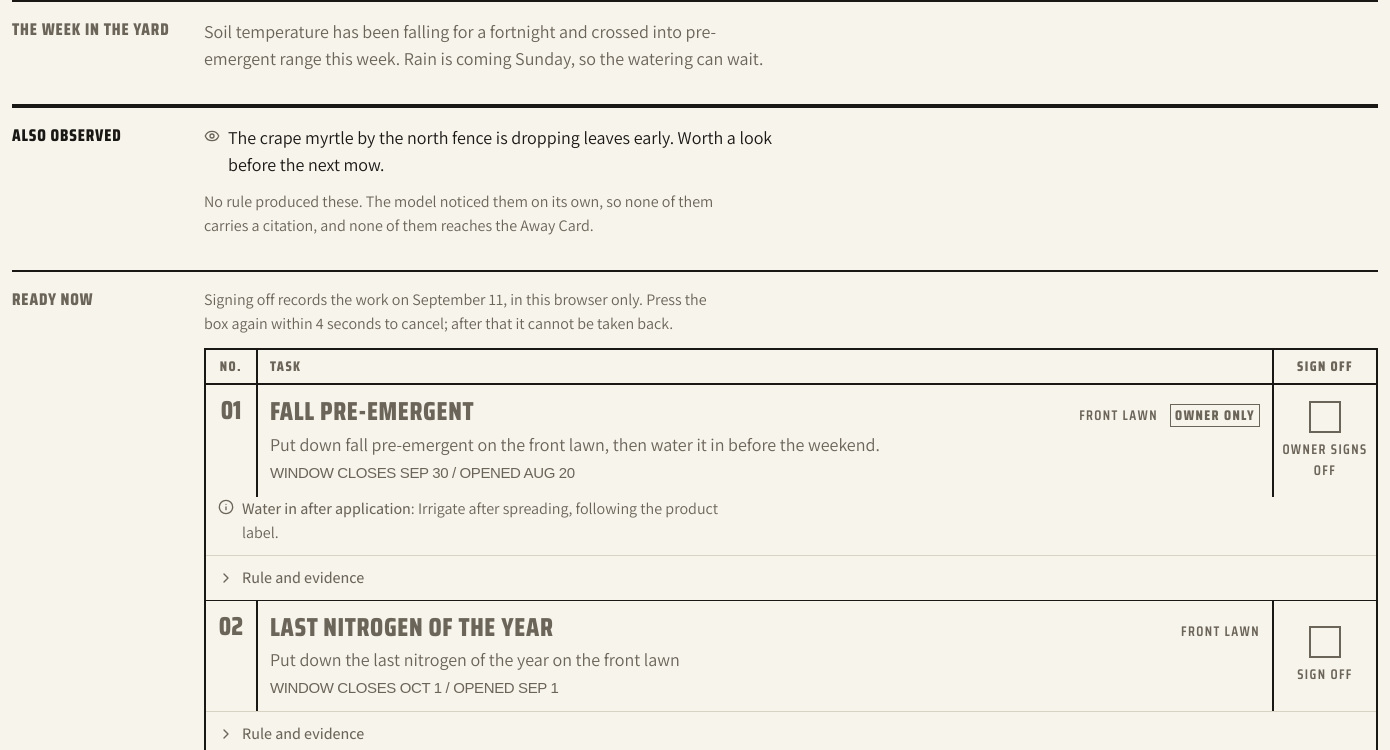
Test: thisWeek › prints the day a signed-off Task was recorded under its evidence
This screenshot has width=1390, height=750.
Click the 1st checkbox. click: click(1325, 441)
box: [1274,385,1376,496]
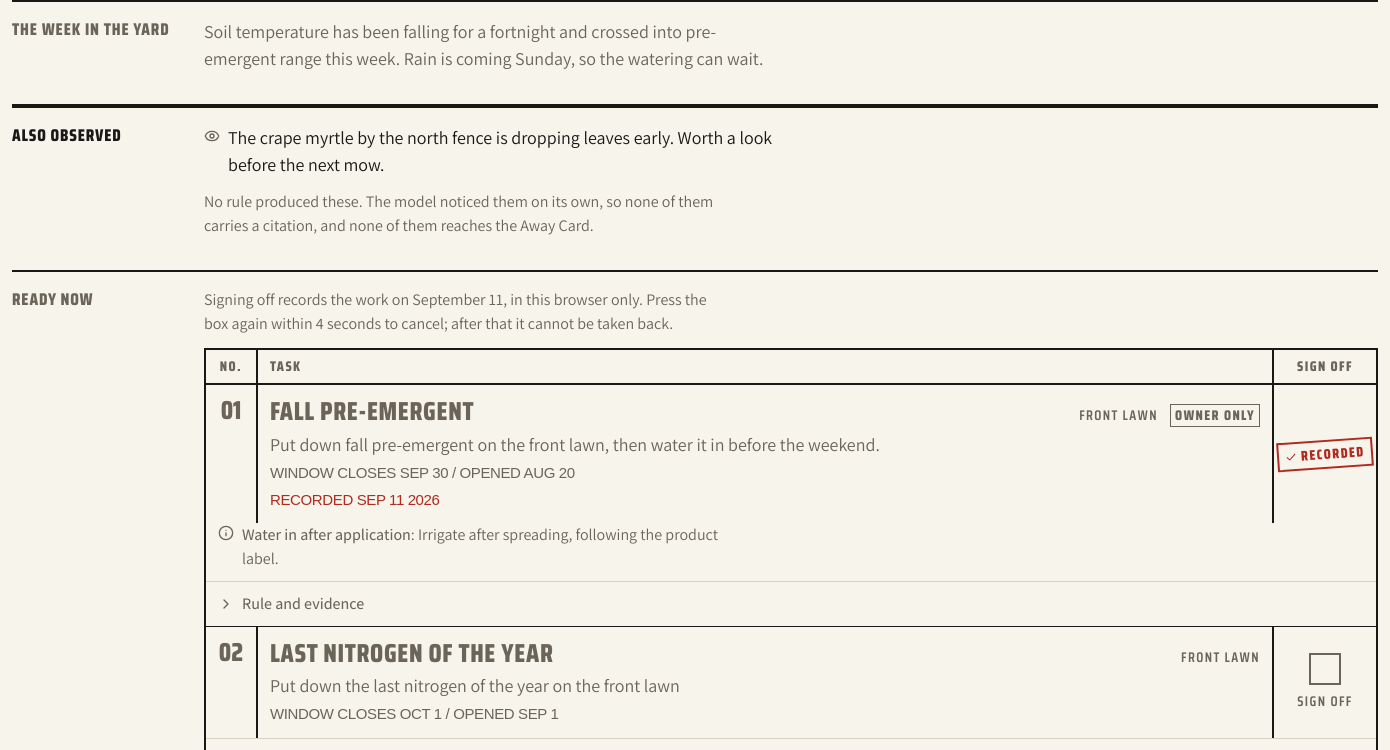
Check: the text "Recorded Sep 11 2026" is shown, box [270,490,440,508]
